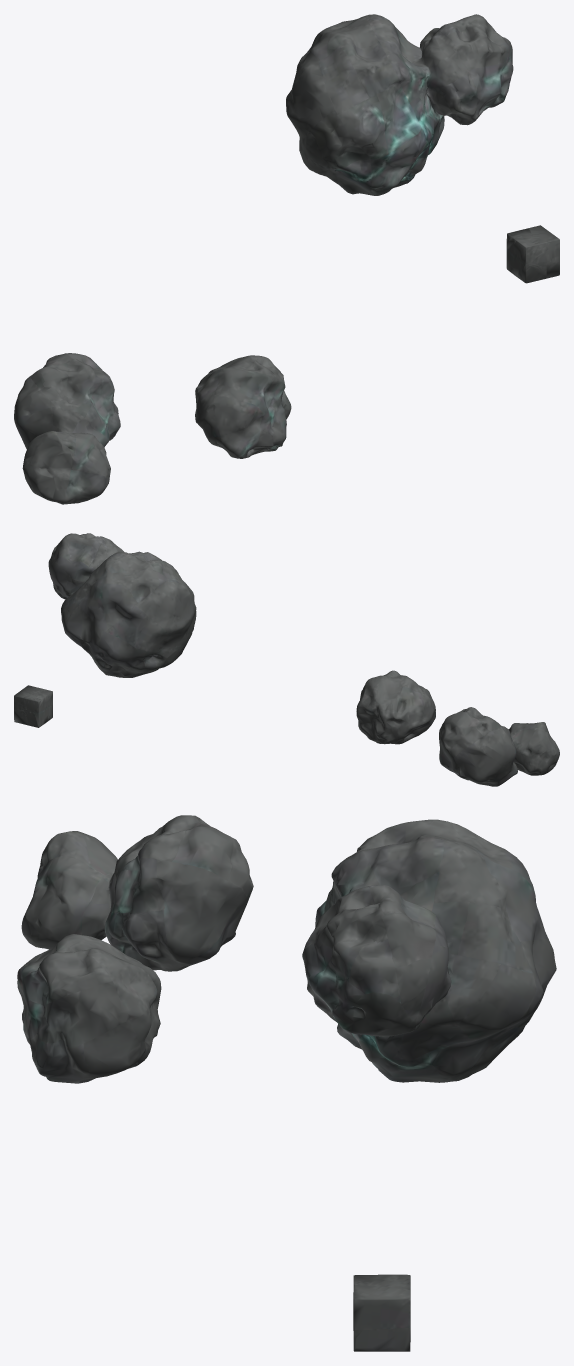
File: boulder-3.glb
3 renders of one model, top to bottom at view 1: azimuth 30°, elevation 25°; view 2: azimuth 150°, elevation 25°; view 3: azimuth 270°, elevation 25°, orthographic. The views are drawn at different scales.
Visible parts, largest first — view 1: mesh_node; view 2: mesh_node; view 3: mesh_node.
Boxes of the visible parts, x1=… form: mesh_node: x1=14, y1=14, x2=559, y2=504; mesh_node: x1=14, y1=533, x2=559, y2=786; mesh_node: x1=17, y1=815, x2=556, y2=1351.
Size of the model in its own units: 1.9 by 0.8163 by 0.9653.
Materials: 1 (1 with a texture image).
